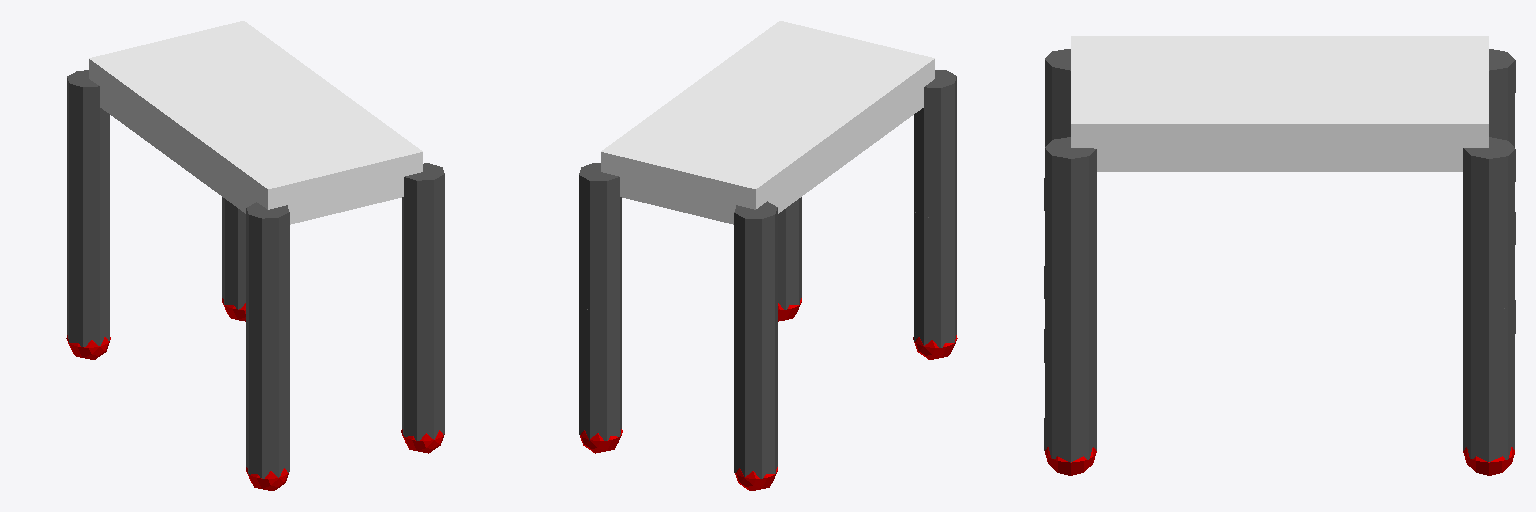
URDF robot description (quadroped):
<?xml version="1.0" encoding="utf-8"?>
<!-- =================================================================================== -->
<!-- |    This document was autogenerated by xacro from quadroped.xacro                | -->
<!-- |    EDITING THIS FILE BY HAND IS NOT RECOMMENDED                                 | -->
<!-- =================================================================================== -->
<robot name="quadroped" xmlns:controller="http://playerstage.sourceforge.net/gazebo/xmlschema/#controller" xmlns:interface="http://playerstage.sourceforge.net/gazebo/xmlschema/#interface" xmlns:sensor="http://playerstage.sourceforge.net/gazebo/xmlschema/#sensor" xmlns:xacro="http://playerstage.sourceforge.net/gazebo/xmlschema/#interface">
  <link name="base_link">
    <inertial>
      <origin rpy="0 0 0" xyz="0 0 0"/>
      <mass value="2.0"/>
      <inertia ixx="0.0270833333333" ixy="0" ixz="0" iyy="0.00708333333333" iyz="0" izz="0.0333333333333"/>
    </inertial>
    <visual>
      <origin rpy="0 0 0" xyz="0 0 0"/>
      <geometry>
        <mesh filename="package://quadruped/urdf/cube.obj" scale="0.2 0.4 0.05"/>
        <!-- <box size="${base_w} ${base_l} ${base_h}"/> -->
      </geometry>
      <material name="white">
        <color rgba="1 1 1 1"/>
      </material>
    </visual>
    <collision>
      <origin rpy="0 0 0" xyz="0 0 0"/>
      <geometry>
        <box size="0.2 0.4 0.05"/>
      </geometry>
    </collision>
  </link>
  <!-- <xacro:leg prefix="FL" rx="${0.}" ry="${0.}"/> -->
  <joint name="FL_HFE" type="revolute">
    <parent link="base_link"/>
    <child link="FL_upperleg"/>
    <limit effort="1000" lower="-10" upper="10" velocity="1000"/>
    <axis xyz="1 0 0"/>
    <origin rpy="0 0 0" xyz="-0.1 0.2 0"/>
    <dynamics damping="0.0" friction="0.0"/>
  </joint>
  <link name="FL_upperleg">
    <visual>
      <origin rpy="0 0 0" xyz="0 0 -0.08"/>
      <geometry>
        <!-- <cylinder length="${upper_leg_length}" radius="${upper_leg_radius}"/> -->
        <mesh filename="package://quadruped/urdf/cylinder.obj" scale="0.025 0.025 0.16"/>
      </geometry>
      <material name="grey">
        <color rgba=".4 .4 .4 .1"/>
      </material>
    </visual>
    <collision>
      <origin rpy="0 0 0" xyz="0 0 -0.08"/>
      <geometry>
        <cylinder length="0.16" radius="0.025"/>
      </geometry>
    </collision>
    <inertial>
      <origin rpy="0 0 0" xyz="0 0 -0.0793"/>
      <mass value="0.162"/>
      <inertia ixx="0.000469609" ixy="0.0" ixz="0.0" iyy="0.000469609" iyz="0.0" izz="1e-6"/>
    </inertial>
  </link>
  <joint name="FL_KFE" type="revolute">
    <parent link="FL_upperleg"/>
    <child link="FL_shank"/>
    <limit effort="1000" velocity="10000"/>
    <axis xyz="1 0 0"/>
    <origin rpy="0 0 0" xyz="0 0 -0.16"/>
    <dynamics damping="0.0" friction="0.0"/>
  </joint>
  <link name="FL_shank">
    <contact>
      <lateral_friction value="1.0"/>
      <restitution value="0.5"/>
    </contact>
    <visual>
      <origin rpy="0 0 0" xyz="0 0 -0.08"/>
      <geometry>
        <!-- <cylinder length="${upper_leg_length}" radius="${upper_leg_radius}"/> -->
        <mesh filename="package://quadruped/urdf/cylinder.obj" scale="0.025 0.025 0.16"/>
      </geometry>
      <material name="grey">
        <color rgba=".4 .4 .4 .1"/>
      </material>
    </visual>
    <collision>
      <origin rpy="0 0 0" xyz="0 0 -0.08"/>
      <geometry>
        <cylinder length="0.16" radius="0.025"/>
      </geometry>
    </collision>
    <inertial>
      <origin rpy="0 0 0" xyz="0 0 -0.0756"/>
      <mass value="0.021"/>
      <inertia ixx="0.000087575" ixy="0.0" ixz="0.0" iyy="0.000087575" iyz="0.0" izz="1e-6"/>
    </inertial>
  </link>
  <joint name="FL_END" type="fixed">
    <parent link="FL_shank"/>
    <child link="FL_contact"/>
    <origin rpy="0 0 0" xyz="0 0 -0.16"/>
  </joint>
  <link name="FL_contact">
    <contact>
      <lateral_friction value="1.0"/>
      <restitution value="0.5"/>
    </contact>
    <visual>
      <origin rpy="0 0 0" xyz="0 0 0"/>
      <geometry>
        <!-- <sphere radius="${upper_leg_radius}"/> -->
        <mesh filename="package://quadruped/urdf/sphere.obj" scale="0.025 0.025 0.025"/>
      </geometry>
      <material name="red">
        <color rgba="1. 0. 0. 1."/>
      </material>
    </visual>
    <collision>
      <origin rpy="0 0 0" xyz="0 0 0"/>
      <geometry>
        <sphere radius="0.025"/>
      </geometry>
    </collision>
    <inertial>
      <mass value="0.01"/>
      <inertia ixx="0." ixy="0.0" ixz="0.0" iyy="0." iyz="0.0" izz="0."/>
    </inertial>
  </link>
  <joint name="FR_HFE" type="revolute">
    <parent link="base_link"/>
    <child link="FR_upperleg"/>
    <limit effort="1000" lower="-10" upper="10" velocity="1000"/>
    <axis xyz="1 0 0"/>
    <origin rpy="0 0 0" xyz="0.1 0.2 0"/>
    <dynamics damping="0.0" friction="0.0"/>
  </joint>
  <link name="FR_upperleg">
    <visual>
      <origin rpy="0 0 0" xyz="0 0 -0.08"/>
      <geometry>
        <!-- <cylinder length="${upper_leg_length}" radius="${upper_leg_radius}"/> -->
        <mesh filename="package://quadruped/urdf/cylinder.obj" scale="0.025 0.025 0.16"/>
      </geometry>
      <material name="grey">
        <color rgba=".4 .4 .4 .1"/>
      </material>
    </visual>
    <collision>
      <origin rpy="0 0 0" xyz="0 0 -0.08"/>
      <geometry>
        <cylinder length="0.16" radius="0.025"/>
      </geometry>
    </collision>
    <inertial>
      <origin rpy="0 0 0" xyz="0 0 -0.0793"/>
      <mass value="0.162"/>
      <inertia ixx="0.000469609" ixy="0.0" ixz="0.0" iyy="0.000469609" iyz="0.0" izz="1e-6"/>
    </inertial>
  </link>
  <joint name="FR_KFE" type="revolute">
    <parent link="FR_upperleg"/>
    <child link="FR_shank"/>
    <limit effort="1000" velocity="10000"/>
    <axis xyz="1 0 0"/>
    <origin rpy="0 0 0" xyz="0 0 -0.16"/>
    <dynamics damping="0.0" friction="0.0"/>
  </joint>
  <link name="FR_shank">
    <contact>
      <lateral_friction value="1.0"/>
      <restitution value="0.5"/>
    </contact>
    <visual>
      <origin rpy="0 0 0" xyz="0 0 -0.08"/>
      <geometry>
        <!-- <cylinder length="${upper_leg_length}" radius="${upper_leg_radius}"/> -->
        <mesh filename="package://quadruped/urdf/cylinder.obj" scale="0.025 0.025 0.16"/>
      </geometry>
      <material name="grey">
        <color rgba=".4 .4 .4 .1"/>
      </material>
    </visual>
    <collision>
      <origin rpy="0 0 0" xyz="0 0 -0.08"/>
      <geometry>
        <cylinder length="0.16" radius="0.025"/>
      </geometry>
    </collision>
    <inertial>
      <origin rpy="0 0 0" xyz="0 0 -0.0756"/>
      <mass value="0.021"/>
      <inertia ixx="0.000087575" ixy="0.0" ixz="0.0" iyy="0.000087575" iyz="0.0" izz="1e-6"/>
    </inertial>
  </link>
  <joint name="FR_END" type="fixed">
    <parent link="FR_shank"/>
    <child link="FR_contact"/>
    <origin rpy="0 0 0" xyz="0 0 -0.16"/>
  </joint>
  <link name="FR_contact">
    <contact>
      <lateral_friction value="1.0"/>
      <restitution value="0.5"/>
    </contact>
    <visual>
      <origin rpy="0 0 0" xyz="0 0 0"/>
      <geometry>
        <!-- <sphere radius="${upper_leg_radius}"/> -->
        <mesh filename="package://quadruped/urdf/sphere.obj" scale="0.025 0.025 0.025"/>
      </geometry>
      <material name="red">
        <color rgba="1. 0. 0. 1."/>
      </material>
    </visual>
    <collision>
      <origin rpy="0 0 0" xyz="0 0 0"/>
      <geometry>
        <sphere radius="0.025"/>
      </geometry>
    </collision>
    <inertial>
      <mass value="0.01"/>
      <inertia ixx="0." ixy="0.0" ixz="0.0" iyy="0." iyz="0.0" izz="0."/>
    </inertial>
  </link>
  <joint name="BL_HFE" type="revolute">
    <parent link="base_link"/>
    <child link="BL_upperleg"/>
    <limit effort="1000" lower="-10" upper="10" velocity="1000"/>
    <axis xyz="1 0 0"/>
    <origin rpy="0 0 0" xyz="-0.1 -0.2 0"/>
    <dynamics damping="0.0" friction="0.0"/>
  </joint>
  <link name="BL_upperleg">
    <visual>
      <origin rpy="0 0 0" xyz="0 0 -0.08"/>
      <geometry>
        <!-- <cylinder length="${upper_leg_length}" radius="${upper_leg_radius}"/> -->
        <mesh filename="package://quadruped/urdf/cylinder.obj" scale="0.025 0.025 0.16"/>
      </geometry>
      <material name="grey">
        <color rgba=".4 .4 .4 .1"/>
      </material>
    </visual>
    <collision>
      <origin rpy="0 0 0" xyz="0 0 -0.08"/>
      <geometry>
        <cylinder length="0.16" radius="0.025"/>
      </geometry>
    </collision>
    <inertial>
      <origin rpy="0 0 0" xyz="0 0 -0.0793"/>
      <mass value="0.162"/>
      <inertia ixx="0.000469609" ixy="0.0" ixz="0.0" iyy="0.000469609" iyz="0.0" izz="1e-6"/>
    </inertial>
  </link>
  <joint name="BL_KFE" type="revolute">
    <parent link="BL_upperleg"/>
    <child link="BL_shank"/>
    <limit effort="1000" velocity="10000"/>
    <axis xyz="1 0 0"/>
    <origin rpy="0 0 0" xyz="0 0 -0.16"/>
    <dynamics damping="0.0" friction="0.0"/>
  </joint>
  <link name="BL_shank">
    <contact>
      <lateral_friction value="1.0"/>
      <restitution value="0.5"/>
    </contact>
    <visual>
      <origin rpy="0 0 0" xyz="0 0 -0.08"/>
      <geometry>
        <!-- <cylinder length="${upper_leg_length}" radius="${upper_leg_radius}"/> -->
        <mesh filename="package://quadruped/urdf/cylinder.obj" scale="0.025 0.025 0.16"/>
      </geometry>
      <material name="grey">
        <color rgba=".4 .4 .4 .1"/>
      </material>
    </visual>
    <collision>
      <origin rpy="0 0 0" xyz="0 0 -0.08"/>
      <geometry>
        <cylinder length="0.16" radius="0.025"/>
      </geometry>
    </collision>
    <inertial>
      <origin rpy="0 0 0" xyz="0 0 -0.0756"/>
      <mass value="0.021"/>
      <inertia ixx="0.000087575" ixy="0.0" ixz="0.0" iyy="0.000087575" iyz="0.0" izz="1e-6"/>
    </inertial>
  </link>
  <joint name="BL_END" type="fixed">
    <parent link="BL_shank"/>
    <child link="BL_contact"/>
    <origin rpy="0 0 0" xyz="0 0 -0.16"/>
  </joint>
  <link name="BL_contact">
    <contact>
      <lateral_friction value="1.0"/>
      <restitution value="0.5"/>
    </contact>
    <visual>
      <origin rpy="0 0 0" xyz="0 0 0"/>
      <geometry>
        <!-- <sphere radius="${upper_leg_radius}"/> -->
        <mesh filename="package://quadruped/urdf/sphere.obj" scale="0.025 0.025 0.025"/>
      </geometry>
      <material name="red">
        <color rgba="1. 0. 0. 1."/>
      </material>
    </visual>
    <collision>
      <origin rpy="0 0 0" xyz="0 0 0"/>
      <geometry>
        <sphere radius="0.025"/>
      </geometry>
    </collision>
    <inertial>
      <mass value="0.01"/>
      <inertia ixx="0." ixy="0.0" ixz="0.0" iyy="0." iyz="0.0" izz="0."/>
    </inertial>
  </link>
  <joint name="BR_HFE" type="revolute">
    <parent link="base_link"/>
    <child link="BR_upperleg"/>
    <limit effort="1000" lower="-10" upper="10" velocity="1000"/>
    <axis xyz="1 0 0"/>
    <origin rpy="0 0 0" xyz="0.1 -0.2 0"/>
    <dynamics damping="0.0" friction="0.0"/>
  </joint>
  <link name="BR_upperleg">
    <visual>
      <origin rpy="0 0 0" xyz="0 0 -0.08"/>
      <geometry>
        <!-- <cylinder length="${upper_leg_length}" radius="${upper_leg_radius}"/> -->
        <mesh filename="package://quadruped/urdf/cylinder.obj" scale="0.025 0.025 0.16"/>
      </geometry>
      <material name="grey">
        <color rgba=".4 .4 .4 .1"/>
      </material>
    </visual>
    <collision>
      <origin rpy="0 0 0" xyz="0 0 -0.08"/>
      <geometry>
        <cylinder length="0.16" radius="0.025"/>
      </geometry>
    </collision>
    <inertial>
      <origin rpy="0 0 0" xyz="0 0 -0.0793"/>
      <mass value="0.162"/>
      <inertia ixx="0.000469609" ixy="0.0" ixz="0.0" iyy="0.000469609" iyz="0.0" izz="1e-6"/>
    </inertial>
  </link>
  <joint name="BR_KFE" type="revolute">
    <parent link="BR_upperleg"/>
    <child link="BR_shank"/>
    <limit effort="1000" velocity="10000"/>
    <axis xyz="1 0 0"/>
    <origin rpy="0 0 0" xyz="0 0 -0.16"/>
    <dynamics damping="0.0" friction="0.0"/>
  </joint>
  <link name="BR_shank">
    <contact>
      <lateral_friction value="1.0"/>
      <restitution value="0.5"/>
    </contact>
    <visual>
      <origin rpy="0 0 0" xyz="0 0 -0.08"/>
      <geometry>
        <!-- <cylinder length="${upper_leg_length}" radius="${upper_leg_radius}"/> -->
        <mesh filename="package://quadruped/urdf/cylinder.obj" scale="0.025 0.025 0.16"/>
      </geometry>
      <material name="grey">
        <color rgba=".4 .4 .4 .1"/>
      </material>
    </visual>
    <collision>
      <origin rpy="0 0 0" xyz="0 0 -0.08"/>
      <geometry>
        <cylinder length="0.16" radius="0.025"/>
      </geometry>
    </collision>
    <inertial>
      <origin rpy="0 0 0" xyz="0 0 -0.0756"/>
      <mass value="0.021"/>
      <inertia ixx="0.000087575" ixy="0.0" ixz="0.0" iyy="0.000087575" iyz="0.0" izz="1e-6"/>
    </inertial>
  </link>
  <joint name="BR_END" type="fixed">
    <parent link="BR_shank"/>
    <child link="BR_contact"/>
    <origin rpy="0 0 0" xyz="0 0 -0.16"/>
  </joint>
  <link name="BR_contact">
    <contact>
      <lateral_friction value="1.0"/>
      <restitution value="0.5"/>
    </contact>
    <visual>
      <origin rpy="0 0 0" xyz="0 0 0"/>
      <geometry>
        <!-- <sphere radius="${upper_leg_radius}"/> -->
        <mesh filename="package://quadruped/urdf/sphere.obj" scale="0.025 0.025 0.025"/>
      </geometry>
      <material name="red">
        <color rgba="1. 0. 0. 1."/>
      </material>
    </visual>
    <collision>
      <origin rpy="0 0 0" xyz="0 0 0"/>
      <geometry>
        <sphere radius="0.025"/>
      </geometry>
    </collision>
    <inertial>
      <mass value="0.01"/>
      <inertia ixx="0." ixy="0.0" ixz="0.0" iyy="0." iyz="0.0" izz="0."/>
    </inertial>
  </link>
</robot>

--- Facts derived from the render (not from the file) ---
3 views of the same robot in one strip: view 1: azimuth 30°, elevation 25°; view 2: azimuth 150°, elevation 25°; view 3: azimuth 270°, elevation 25° (orthographic).
Robot: quadroped — 13 links, 12 joints (8 revolute, 4 fixed); root link base_link; default pose: every joint at zero.
Visible links, largest first — view 1: base_link, BL_upperleg, BR_upperleg, FL_upperleg, BL_shank, FL_shank, BR_shank, FR_shank, FL_contact, BL_contact, BR_contact; view 2: base_link, FL_upperleg, FR_upperleg, BL_upperleg, FL_shank, FR_shank, BL_shank, BR_shank, FL_contact, BL_contact, FR_contact; view 3: base_link, BR_upperleg, FR_upperleg, FR_shank, BR_shank, BL_upperleg, FL_upperleg, BR_contact, FR_contact.
Link boxes in pixels (x1,y1,x2,y2): base_link: (89,21,422,224); BL_upperleg: (246,202,289,348); BR_upperleg: (402,163,444,310); FL_upperleg: (67,70,109,216); BL_shank: (246,338,289,478); FL_shank: (67,208,109,346); BR_shank: (402,303,444,440); FR_shank: (222,197,245,309); FL_contact: (66,335,110,359); BL_contact: (246,467,288,490); BR_contact: (401,429,444,453); base_link: (601,21,934,224); FL_upperleg: (734,201,777,348); FR_upperleg: (579,163,621,310); BL_upperleg: (914,70,956,217); FL_shank: (734,338,777,478); FR_shank: (579,302,621,440); BL_shank: (914,207,956,347); BR_shank: (778,197,801,309); FL_contact: (735,467,777,490); BL_contact: (913,335,957,359); FR_contact: (580,429,622,453); base_link: (1071,36,1488,171); BR_upperleg: (1044,137,1096,310); FR_upperleg: (1463,137,1515,310); FR_shank: (1463,300,1515,461); BR_shank: (1044,300,1096,462); BL_upperleg: (1044,49,1070,210); FL_upperleg: (1489,49,1515,147); BR_contact: (1045,447,1096,475); FR_contact: (1463,447,1514,475).
Bounding box of the posed robot: 0.25 × 0.4501 × 0.37 m (x, y, z).
Meshes: 3 distinct files referenced, 13 mesh visuals loaded (3 OBJ).